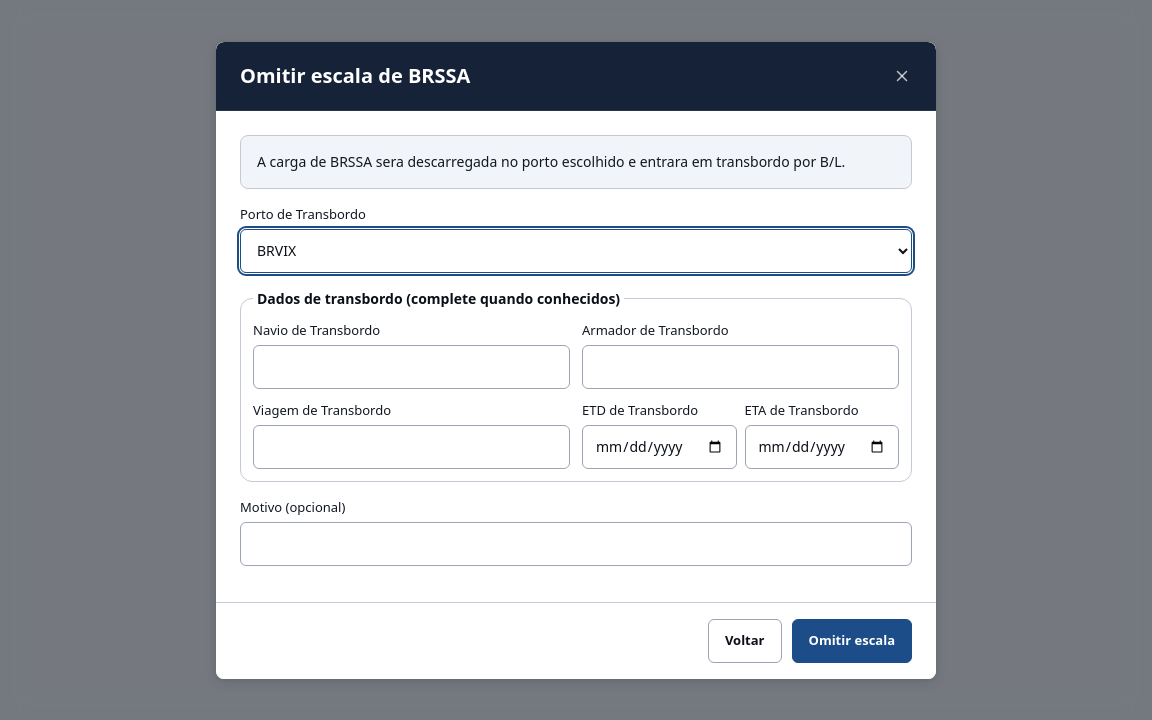
Test case: OmitEscalaModal — decisões do dono (lote 9) › 02-viagens-adr:3: a confirmação diz que qualquer setor reverte e que o histórico fica
Step 1. Type "Armador omitiu" into the field labelled "Motivo (opcional)" → (576,544), box [240, 522, 912, 566]
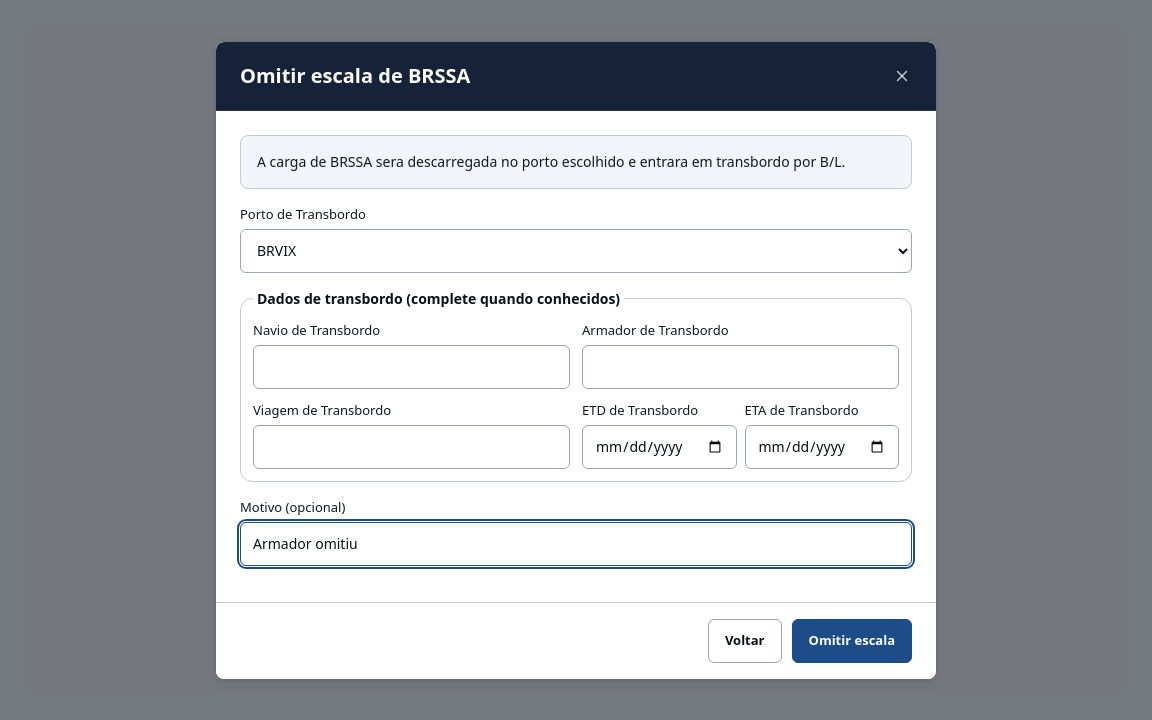
Step 2. Click the button "Omitir escala" → (852,640), box [792, 618, 912, 662]
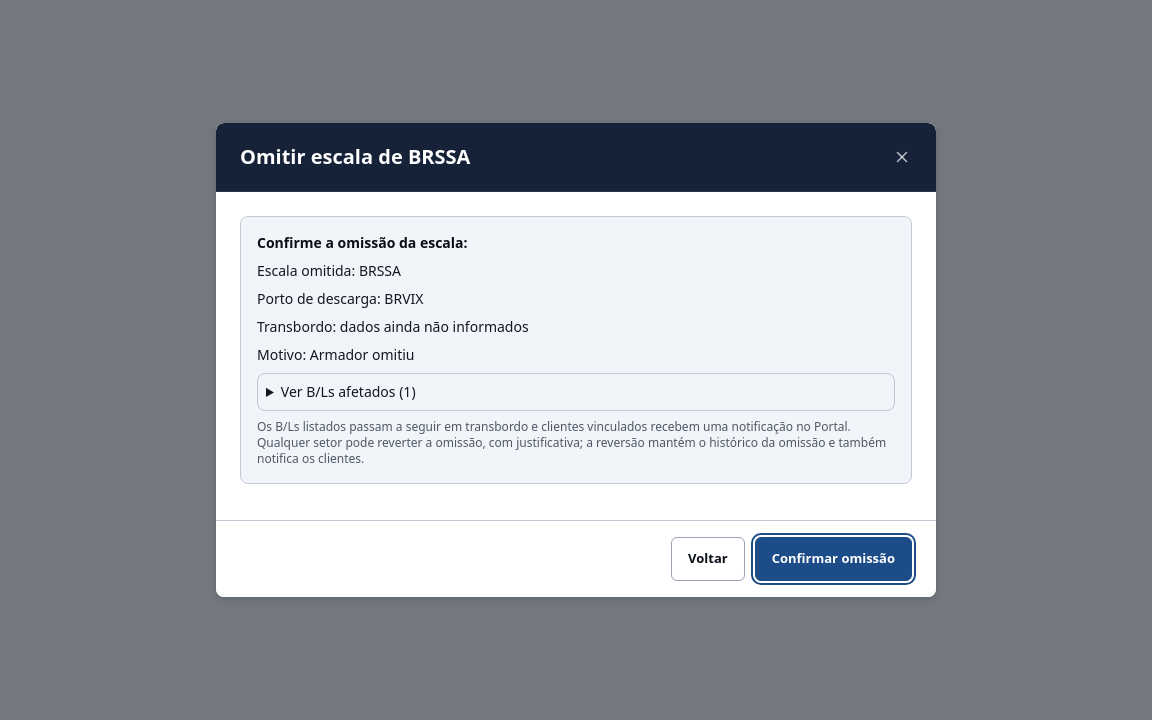
Result: the text "Qualquer setor pode reverter a omissão" is shown at [257, 418, 886, 467]
